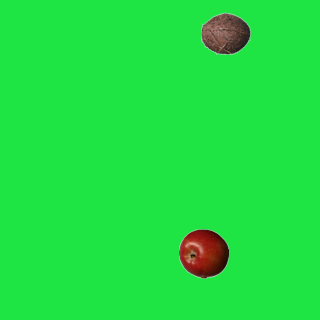Apple Braeburn: (178, 228, 228, 278)
Cocos: (200, 8, 250, 58)
